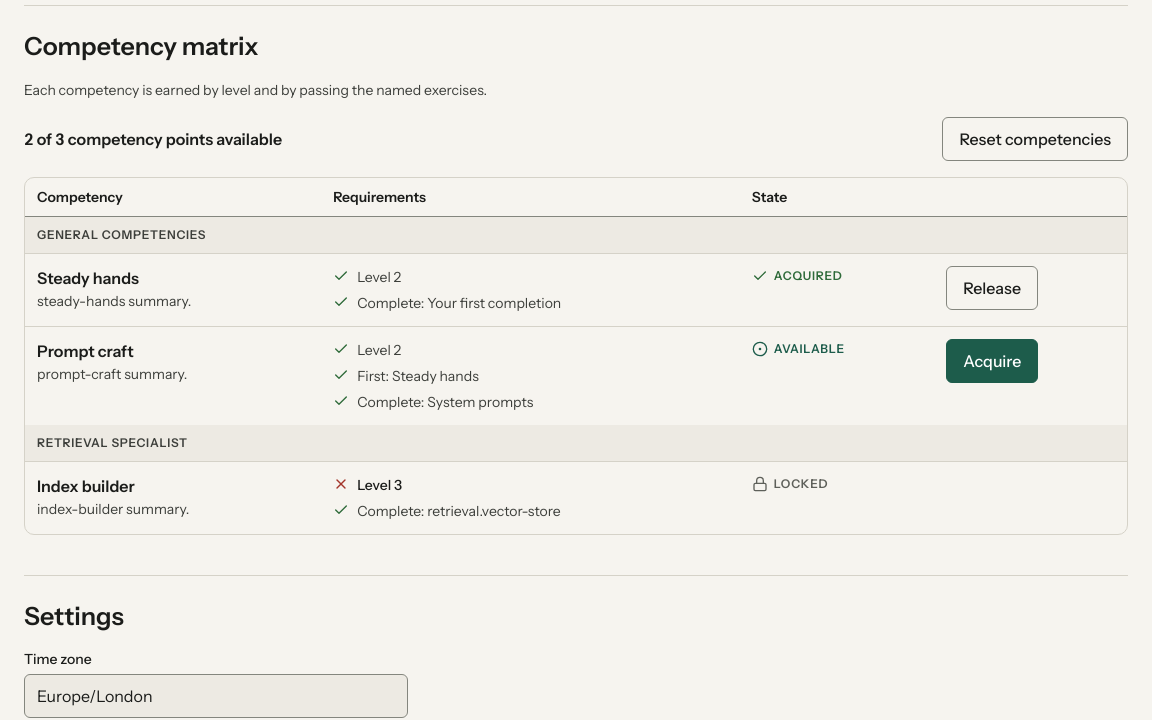
it: profile page › updates the tree and the point counter after a successful allocation
(page scrolled)
Click the button with aria-label "Acquire Prompt craft": (992, 361) [946,339,1038,383]
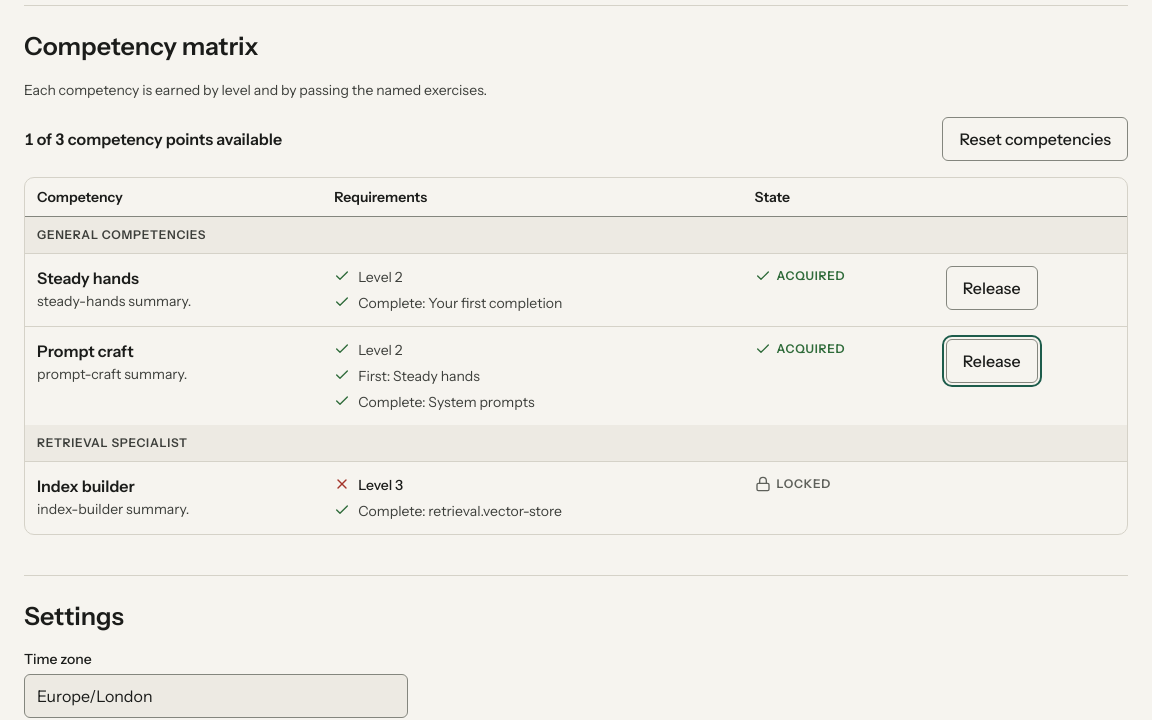
Expected: the button with aria-label "Release Prompt craft" is shown, [946,339,1038,383]
Expected: the text "1 of 3 competency points available" is shown, [24,127,282,151]
